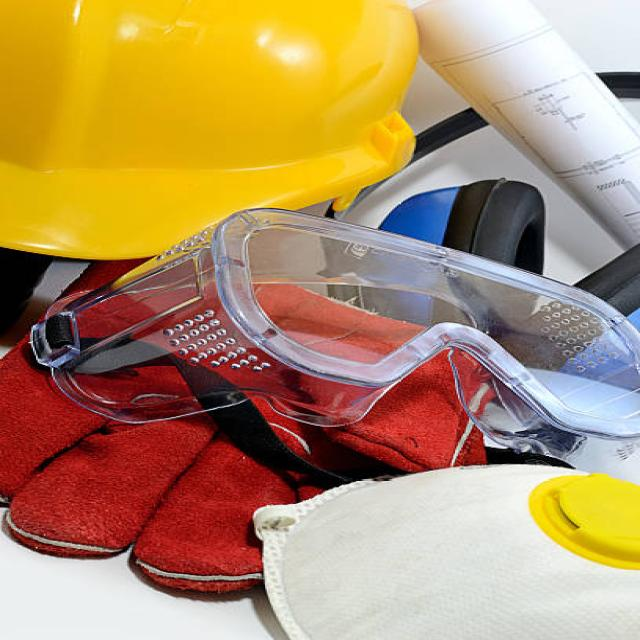Gloves: (0, 265, 520, 607)
helmet: (0, 0, 415, 259)
